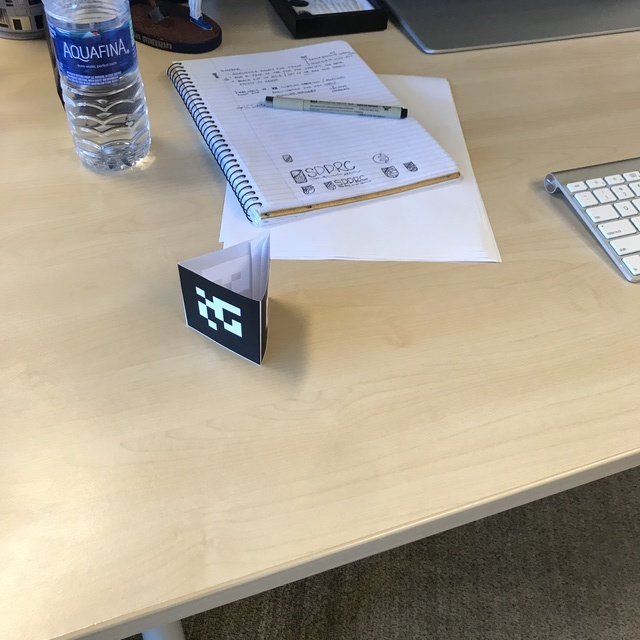ARTag: (176, 233, 272, 367)
